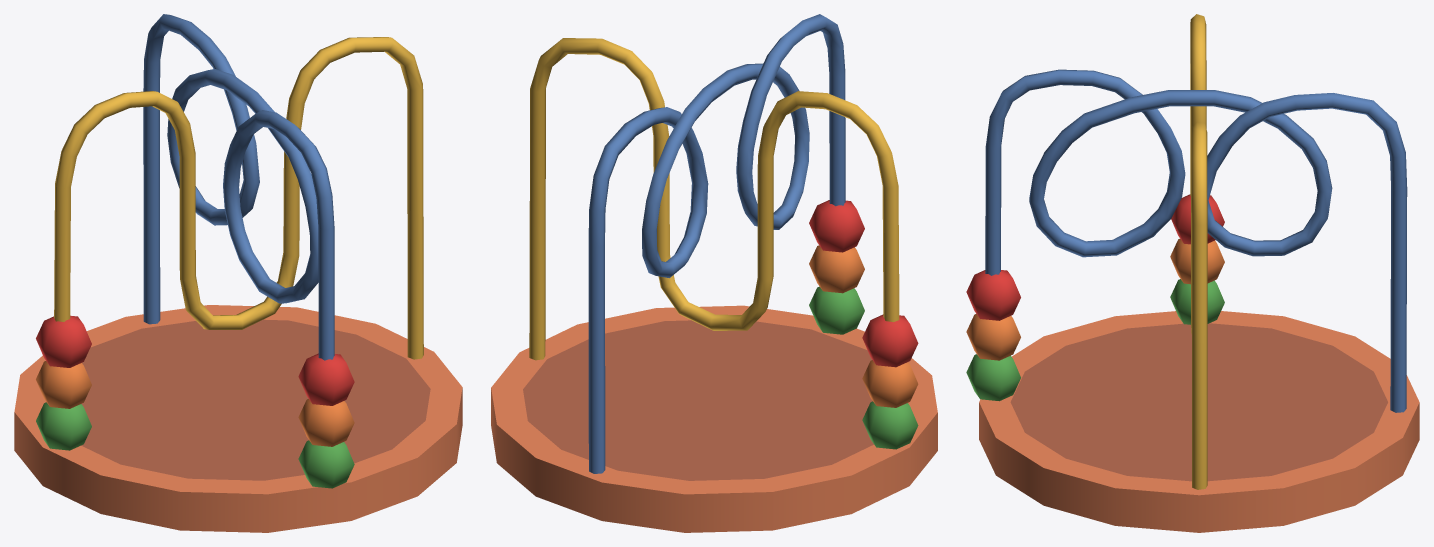
File: LogicToy_01.fbx
3 renders of one model, left to right at view 1: azimuth 30°, elevation 25°; view 2: azimuth 150°, elevation 25°; view 3: azimuth 270°, elevation 25°, orthographic. The views are drawn at different scales.
Parts seen in each view (by area): view 1: LogicToy_01, LogicToy_01_Ball_B_R, LogicToy_01_Ball_Y_R, LogicToy_01_Ball_B_G, LogicToy_01_Ball_Y_G, LogicToy_01_Ball_Y_O, LogicToy_01_Ball_B_O; view 2: LogicToy_01, LogicToy_01_Ball_B_R, LogicToy_01_Ball_Y_R, LogicToy_01_Ball_B_G, LogicToy_01_Ball_Y_G, LogicToy_01_Ball_Y_O, LogicToy_01_Ball_B_O; view 3: LogicToy_01, LogicToy_01_Ball_B_R, LogicToy_01_Ball_B_G, LogicToy_01_Ball_B_O, LogicToy_01_Ball_Y_G, LogicToy_01_Ball_Y_O, LogicToy_01_Ball_Y_R.
Part boxes in pixels (bbox=[...]): LogicToy_01: bbox=[14, 14, 462, 532]; LogicToy_01_Ball_B_R: bbox=[298, 353, 354, 405]; LogicToy_01_Ball_Y_R: bbox=[36, 315, 91, 367]; LogicToy_01_Ball_B_G: bbox=[298, 440, 354, 488]; LogicToy_01_Ball_Y_G: bbox=[36, 402, 91, 450]; LogicToy_01_Ball_Y_O: bbox=[36, 361, 91, 408]; LogicToy_01_Ball_B_O: bbox=[298, 399, 354, 446]; LogicToy_01: bbox=[491, 14, 937, 532]; LogicToy_01_Ball_B_R: bbox=[809, 200, 864, 252]; LogicToy_01_Ball_Y_R: bbox=[862, 314, 918, 367]; LogicToy_01_Ball_B_G: bbox=[809, 286, 864, 334]; LogicToy_01_Ball_Y_G: bbox=[862, 401, 918, 449]; LogicToy_01_Ball_Y_O: bbox=[862, 360, 918, 407]; LogicToy_01_Ball_B_O: bbox=[809, 245, 864, 293]; LogicToy_01: bbox=[979, 14, 1419, 532]; LogicToy_01_Ball_B_R: bbox=[966, 270, 1020, 320]; LogicToy_01_Ball_B_G: bbox=[966, 354, 1020, 401]; LogicToy_01_Ball_B_O: bbox=[966, 314, 1020, 360]; LogicToy_01_Ball_Y_G: bbox=[1170, 279, 1224, 324]; LogicToy_01_Ball_Y_O: bbox=[1170, 238, 1224, 284]; LogicToy_01_Ball_Y_R: bbox=[1171, 194, 1224, 244].
Bounding box in the file's own units: 0.3427 × 0.3089 × 0.3493.
